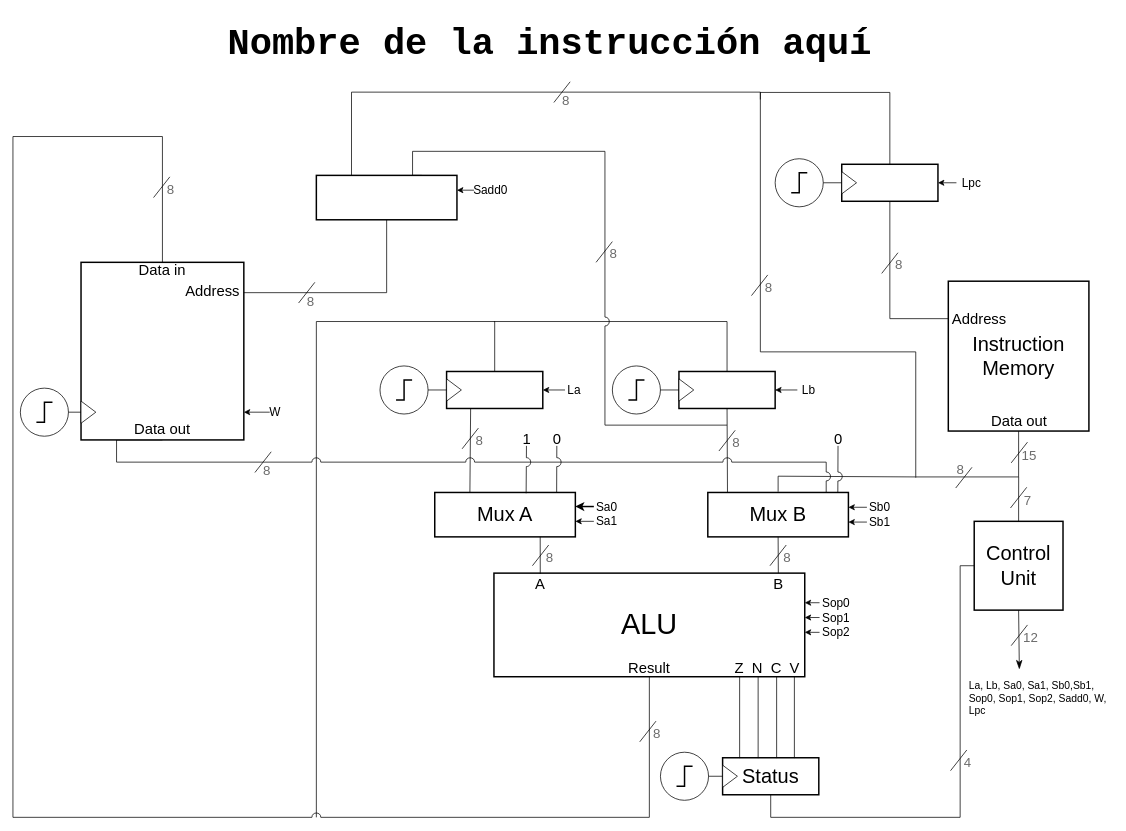
This 1126x831 diagram has some shape labels left out. Here are the shapes that lost their labels. From the top down, the box of each, then its label:
(315, 174, 457, 220): Mux Address
(841, 163, 938, 202): PC
(80, 261, 244, 440): Data Memory
(445, 370, 543, 409): Reg A
(678, 370, 776, 409): Reg B
